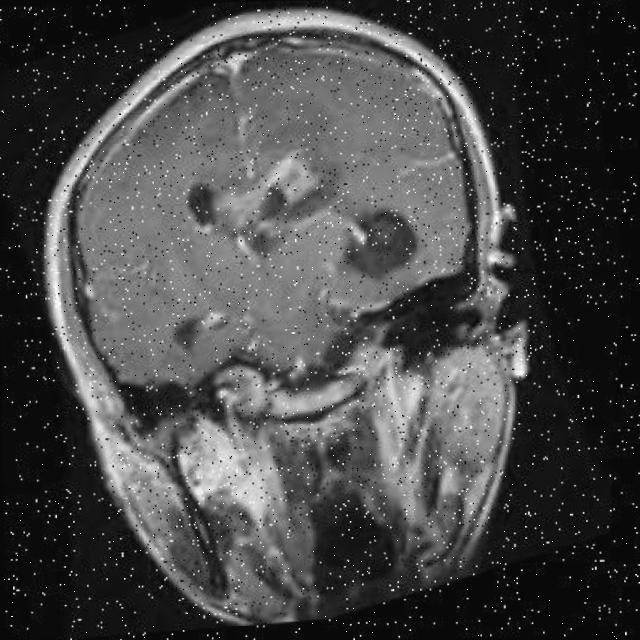LMCI: (276, 142, 416, 265)
MCI: (304, 244, 444, 341)
